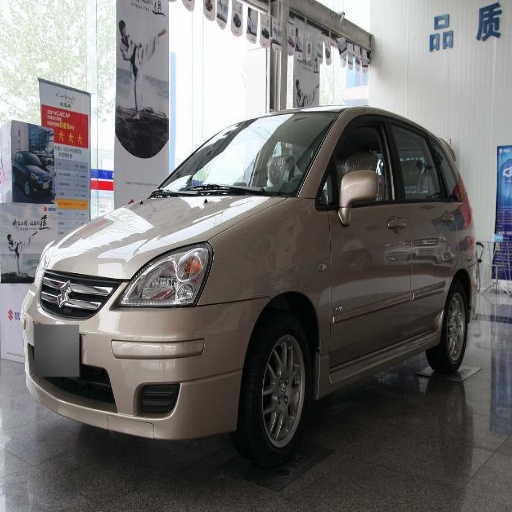front_bumper: (21, 266, 262, 439)
front_glass: (151, 113, 338, 196)
front_left_door: (318, 111, 408, 366)
